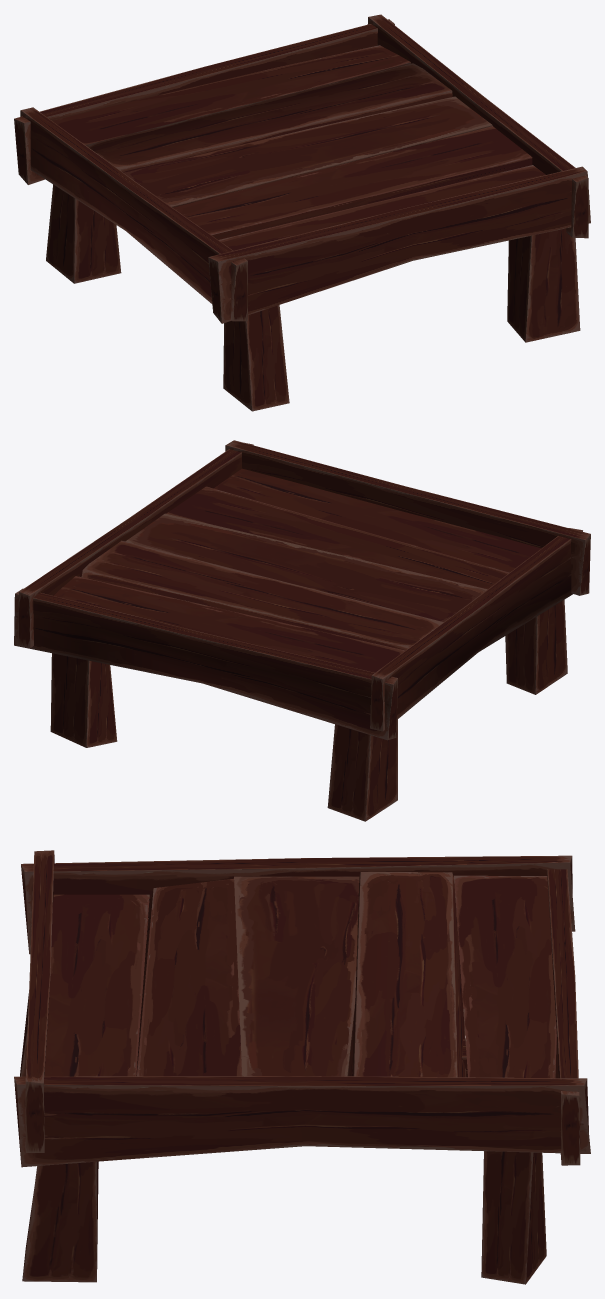
File: SM_PROP_foundation_wood_02.fbx
3 views of the same model, one above another, from view 1: azimuth 30°, elevation 25°; view 2: azimuth 150°, elevation 25°; view 3: azimuth 270°, elevation 25° (orthographic). The views are drawn at different scales.
Visible parts, largest first — view 1: SM_PROP_foundation_wood_02; view 2: SM_PROP_foundation_wood_02; view 3: SM_PROP_foundation_wood_02.
Boxes of the visible parts, bbox=[...] form: SM_PROP_foundation_wood_02: bbox=[14, 14, 590, 411]; SM_PROP_foundation_wood_02: bbox=[14, 440, 590, 821]; SM_PROP_foundation_wood_02: bbox=[14, 850, 590, 1284].
Size of the model in its own units: 268 by 105 by 266.
